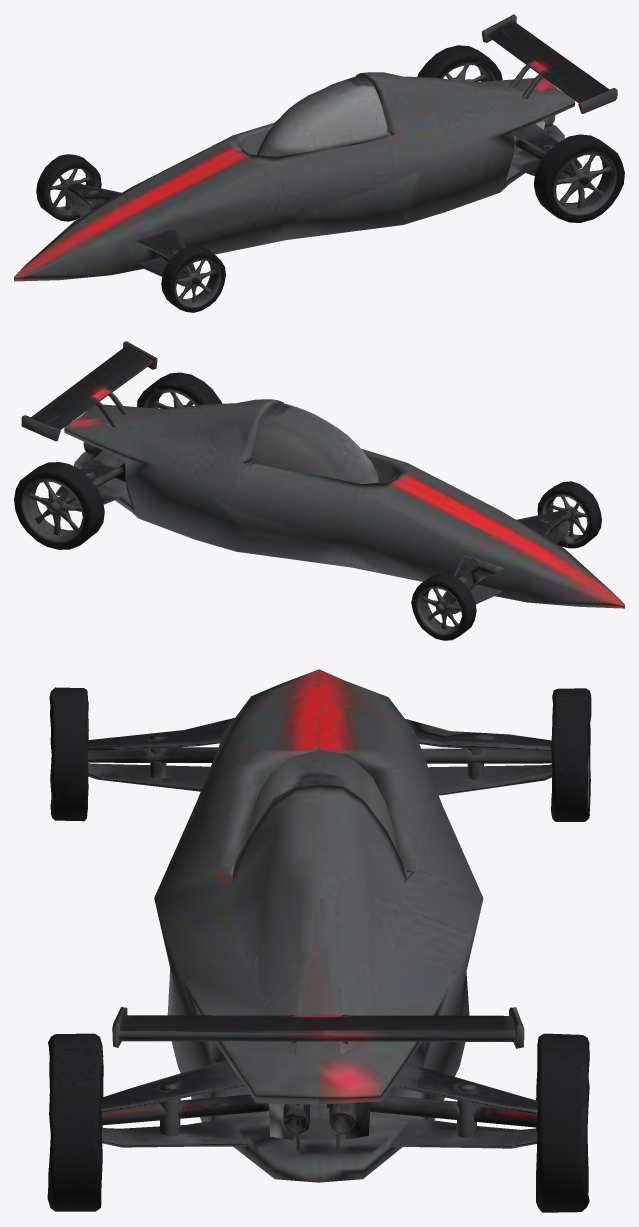
Rendered from dart.glb.
3 renders of one model, top to bottom at view 1: azimuth 30°, elevation 25°; view 2: azimuth 150°, elevation 25°; view 3: azimuth 270°, elevation 25°, orthographic. The views are drawn at different scales.
Bounding box in the file's own units: 1 × 0.2335 × 0.4267.
1 material, 1 textured.
